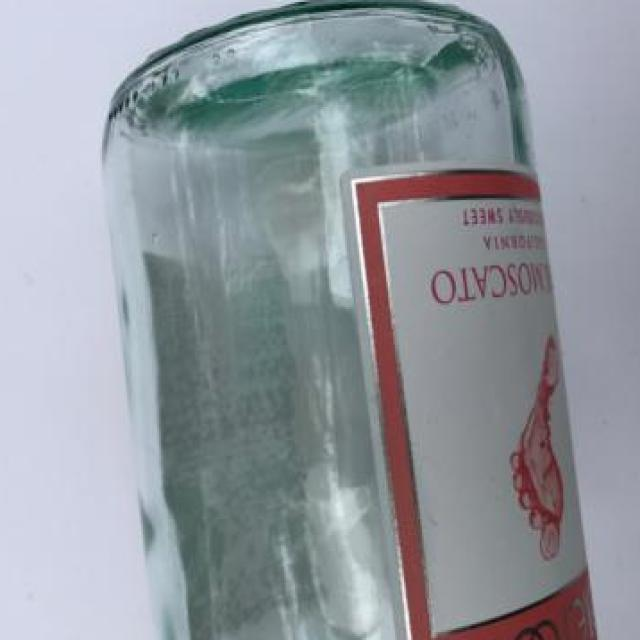organic: (85, 4, 610, 636)
